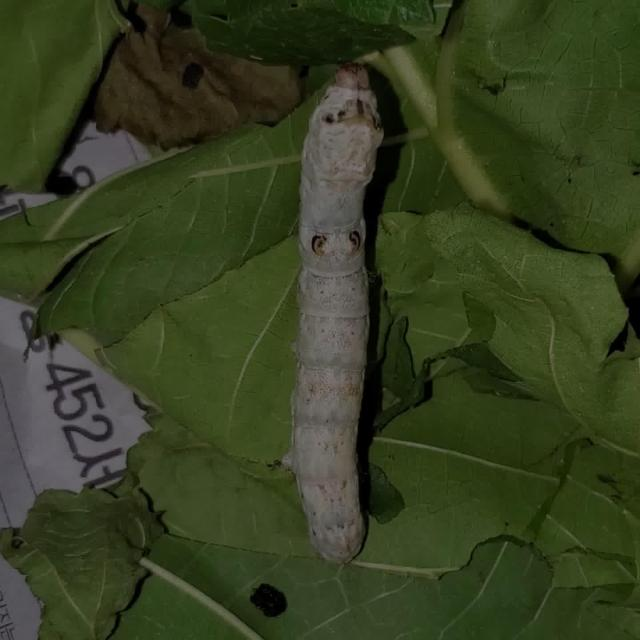Healthy: (270, 43, 436, 577)
